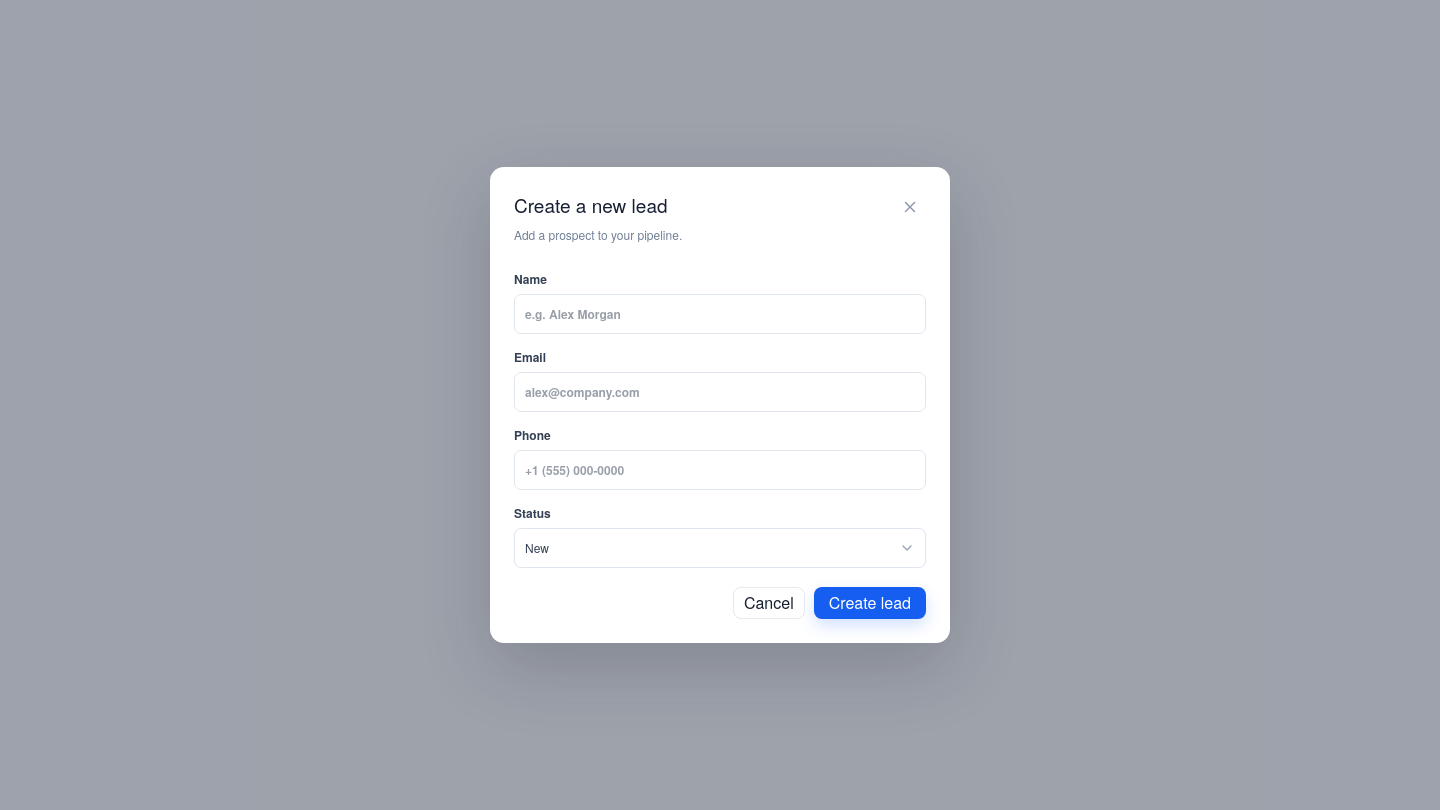
LeadForm › blocks submission and shows per-field messages for an empty form
This screenshot has width=1440, height=810.
Click the button "Create lead" at (870, 603), box 814,587 -> 926,619
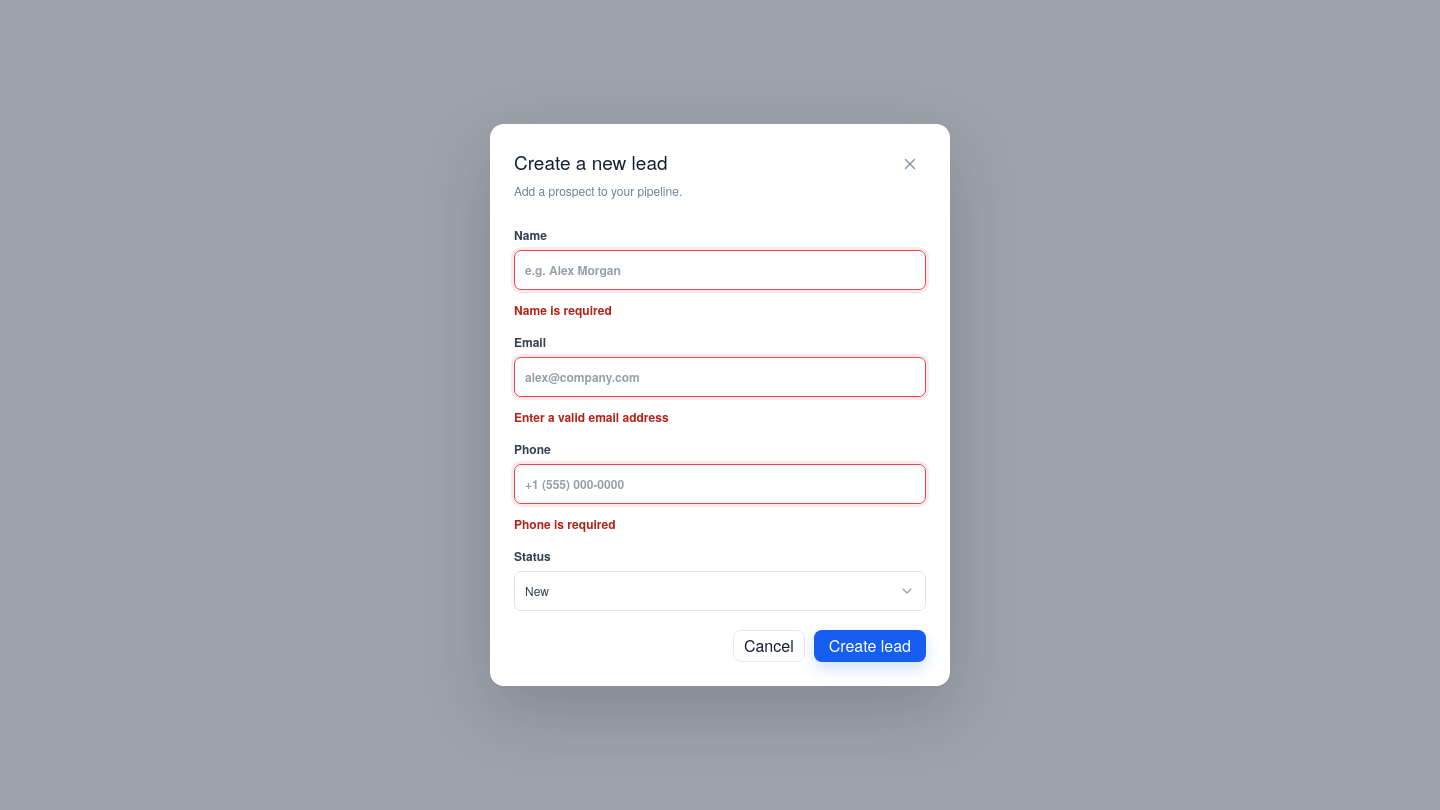
Expected: the text "Name is required" is shown, 514,301 -> 612,319
Expected: the text "Enter a valid email address" is shown, 514,408 -> 669,426
Expected: the text "Phone is required" is shown, 514,515 -> 616,533
